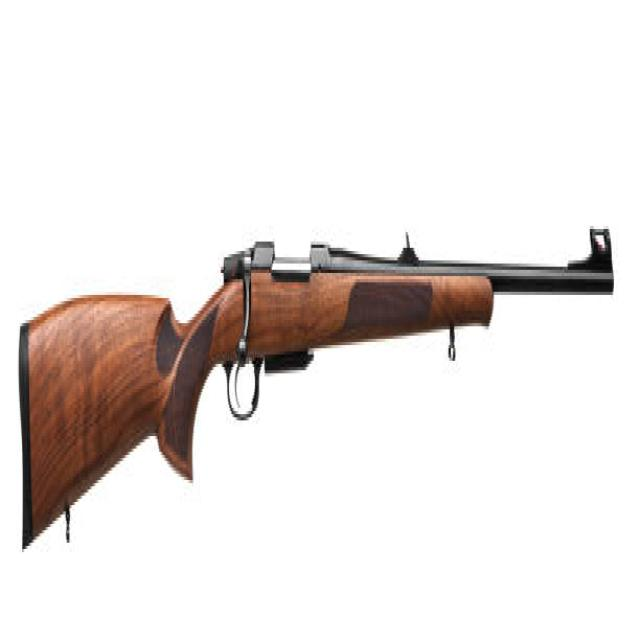rifle: (16, 200, 621, 582)
